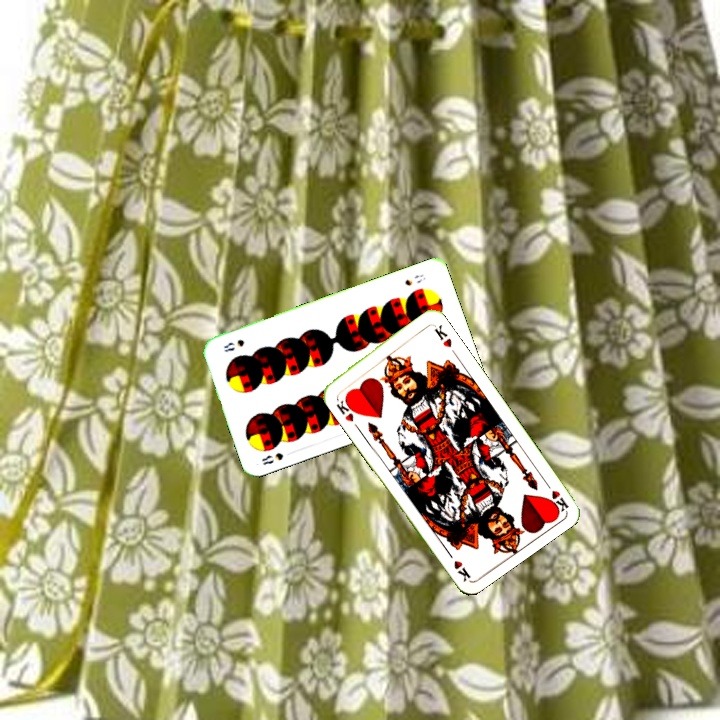HK: (540, 476, 571, 515), (332, 392, 360, 424)
S8: (257, 448, 286, 468), (400, 270, 428, 288)
